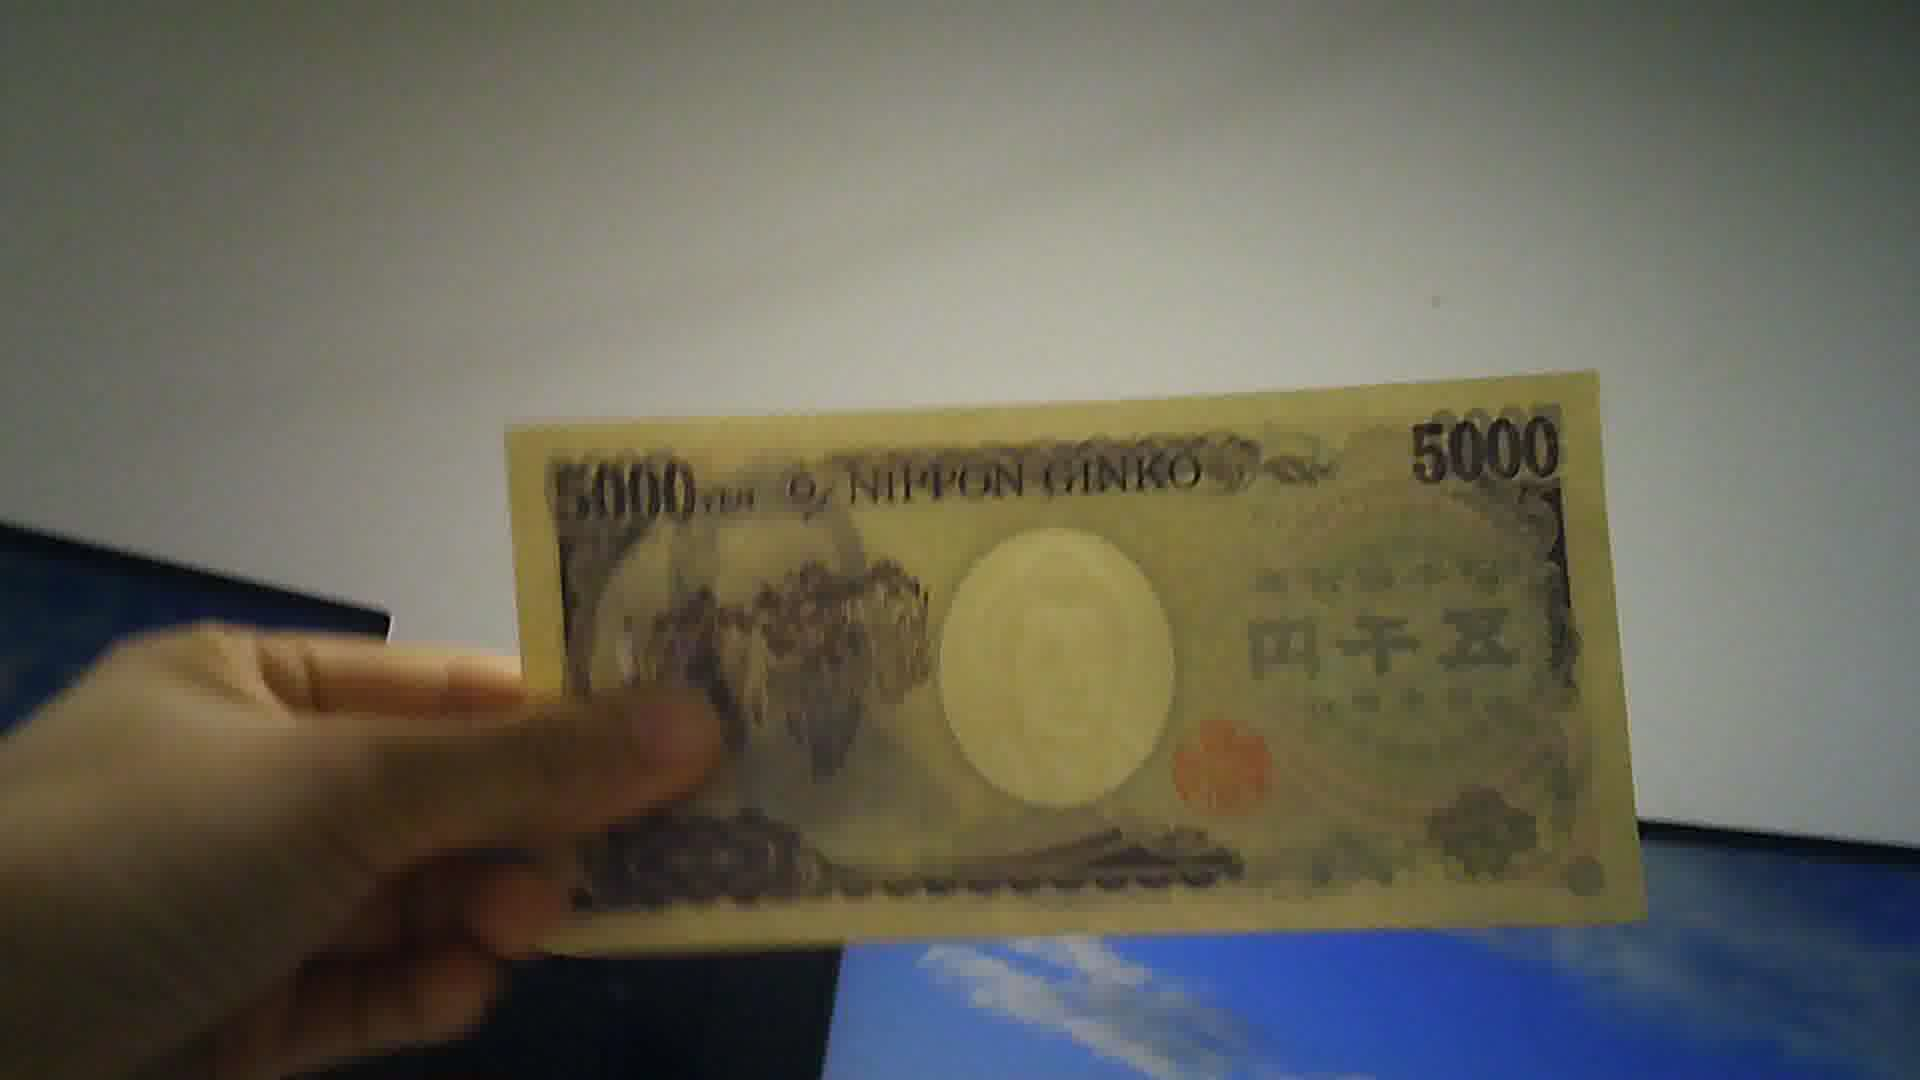5,000 Yen: (495, 400, 1654, 920)
